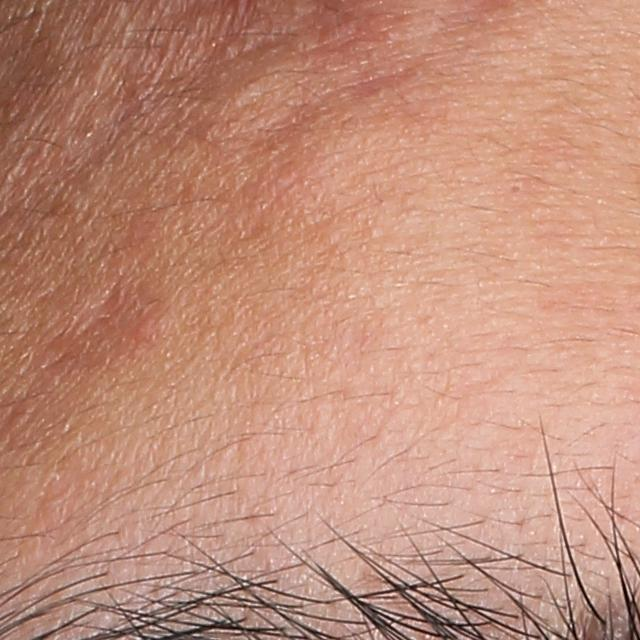comedo: (508, 181, 525, 197)
